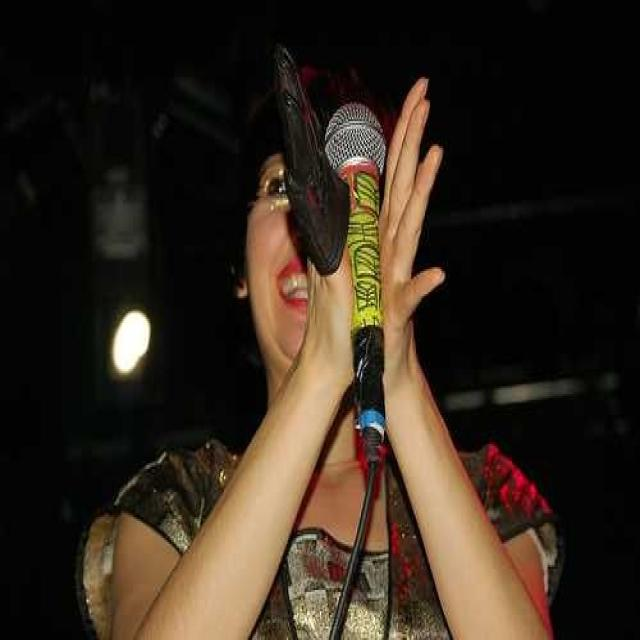microphone: (324, 98, 390, 478)
